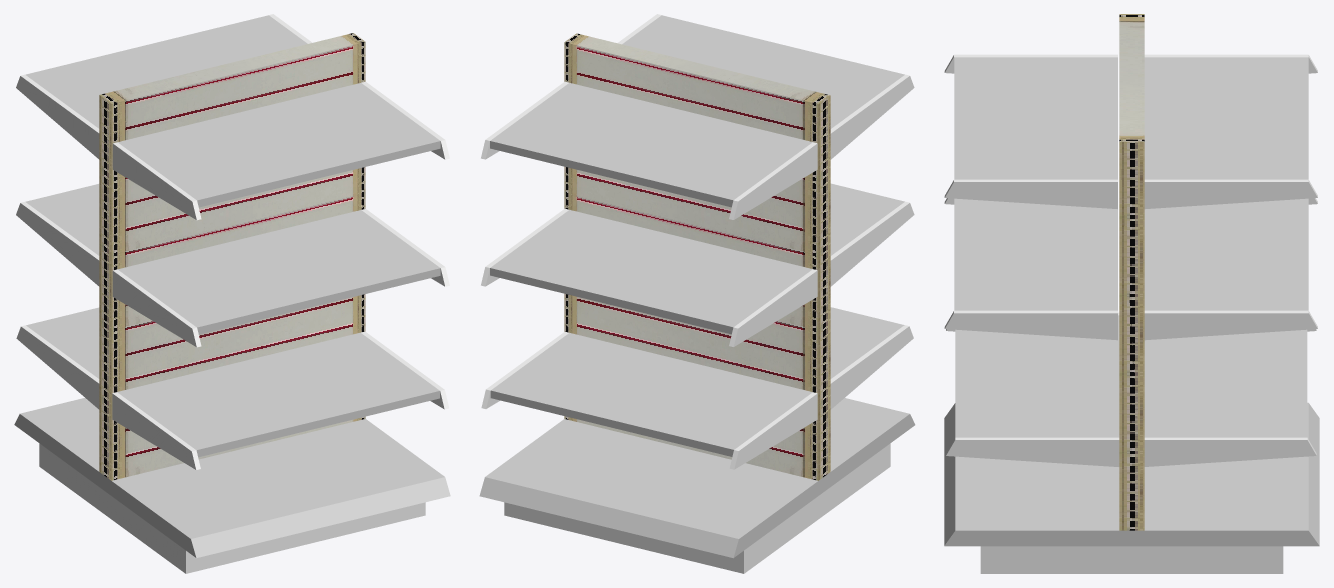
Rendered from commerical_shelf_short.glb.
3 renders of one model, left to right at view 1: azimuth 30°, elevation 25°; view 2: azimuth 150°, elevation 25°; view 3: azimuth 270°, elevation 25°, orthographic. The views are drawn at different scales.
Visible parts, largest first — view 1: Commerical_Shelf_Short, Commerical_Shelf_Short_Base, Commerical_Shelf_Short_Shelf.004, Commerical_Shelf_Short_Shelf.003, Commerical_Shelf_Short_Shelf.005, Commerical_Shelf_Short_Shelf, Commerical_Shelf_Short_Bottom, Commerical_Shelf_Short_Shelf.001, Commerical_Shelf_Short_Shelf.002, Commerical_Shelf_Short_Shelf_EndCap.010, Commerical_Shelf_Short_Shelf_EndCap.009, Commerical_Shelf_Short_Shelf_EndCap.011 (+6 smaller); view 2: Commerical_Shelf_Short, Commerical_Shelf_Short_Base, Commerical_Shelf_Short_Shelf, Commerical_Shelf_Short_Shelf.001, Commerical_Shelf_Short_Shelf.002, Commerical_Shelf_Short_Shelf.003, Commerical_Shelf_Short_Bottom, Commerical_Shelf_Short_Shelf.004, Commerical_Shelf_Short_Shelf.005, Commerical_Shelf_Short_Shelf_EndCap.002, Commerical_Shelf_Short_Shelf_EndCap.001, Commerical_Shelf_Short_Shelf_EndCap.004 (+6 smaller); view 3: Commerical_Shelf_Short_Base, Commerical_Shelf_Short_Shelf, Commerical_Shelf_Short_Shelf.003, Commerical_Shelf_Short_Shelf.001, Commerical_Shelf_Short_Shelf.004, Commerical_Shelf_Short_Shelf.005, Commerical_Shelf_Short_Shelf.002, Commerical_Shelf_Short, Commerical_Shelf_Short_Bottom, Commerical_Shelf_Short_Shelf_EndCap.003, Commerical_Shelf_Short_Shelf_EndCap, Commerical_Shelf_Short_Shelf_EndCap.008 (+5 smaller).
Boxes of the visible parts, x1,y1,x2,y2 form: Commerical_Shelf_Short: [99, 33, 365, 480]; Commerical_Shelf_Short_Base: [14, 398, 450, 557]; Commerical_Shelf_Short_Shelf.004: [118, 210, 440, 334]; Commerical_Shelf_Short_Shelf.003: [118, 83, 440, 207]; Commerical_Shelf_Short_Shelf.005: [117, 332, 439, 457]; Commerical_Shelf_Short_Shelf: [25, 15, 307, 128]; Commerical_Shelf_Short_Bottom: [39, 443, 425, 573]; Commerical_Shelf_Short_Shelf.001: [25, 184, 99, 255]; Commerical_Shelf_Short_Shelf.002: [26, 307, 99, 378]; Commerical_Shelf_Short_Shelf_EndCap.010: [112, 269, 201, 347]; Commerical_Shelf_Short_Shelf_EndCap.009: [112, 142, 201, 220]; Commerical_Shelf_Short_Shelf_EndCap.011: [112, 392, 200, 469]; Commerical_Shelf_Short: [564, 33, 830, 480]; Commerical_Shelf_Short_Base: [479, 398, 915, 558]; Commerical_Shelf_Short_Shelf: [490, 83, 812, 207]; Commerical_Shelf_Short_Shelf.001: [490, 210, 812, 334]; Commerical_Shelf_Short_Shelf.002: [490, 333, 812, 456]; Commerical_Shelf_Short_Shelf.003: [622, 15, 904, 128]; Commerical_Shelf_Short_Bottom: [504, 443, 890, 573]; Commerical_Shelf_Short_Shelf.004: [830, 183, 904, 255]; Commerical_Shelf_Short_Shelf.005: [830, 307, 904, 378]; Commerical_Shelf_Short_Shelf_EndCap.002: [729, 269, 817, 346]; Commerical_Shelf_Short_Shelf_EndCap.001: [729, 142, 817, 219]; Commerical_Shelf_Short_Shelf_EndCap.004: [729, 392, 817, 469]; Commerical_Shelf_Short_Base: [944, 402, 1319, 546]; Commerical_Shelf_Short_Shelf: [1144, 57, 1308, 179]; Commerical_Shelf_Short_Shelf.003: [954, 57, 1117, 179]; Commerical_Shelf_Short_Shelf.001: [1144, 198, 1308, 310]; Commerical_Shelf_Short_Shelf.004: [954, 198, 1117, 310]; Commerical_Shelf_Short_Shelf.005: [955, 315, 1119, 437]; Commerical_Shelf_Short_Shelf.002: [1144, 329, 1307, 437]; Commerical_Shelf_Short: [1119, 14, 1144, 530]; Commerical_Shelf_Short_Bottom: [980, 546, 1283, 573]; Commerical_Shelf_Short_Shelf_EndCap.003: [1144, 310, 1317, 340]; Commerical_Shelf_Short_Shelf_EndCap: [1144, 179, 1317, 209]; Commerical_Shelf_Short_Shelf_EndCap.008: [946, 437, 1119, 466].
Size of the model in its own units: 0.9144 by 1.45 by 1.13.
Materials: 4 (1 with a texture image).
